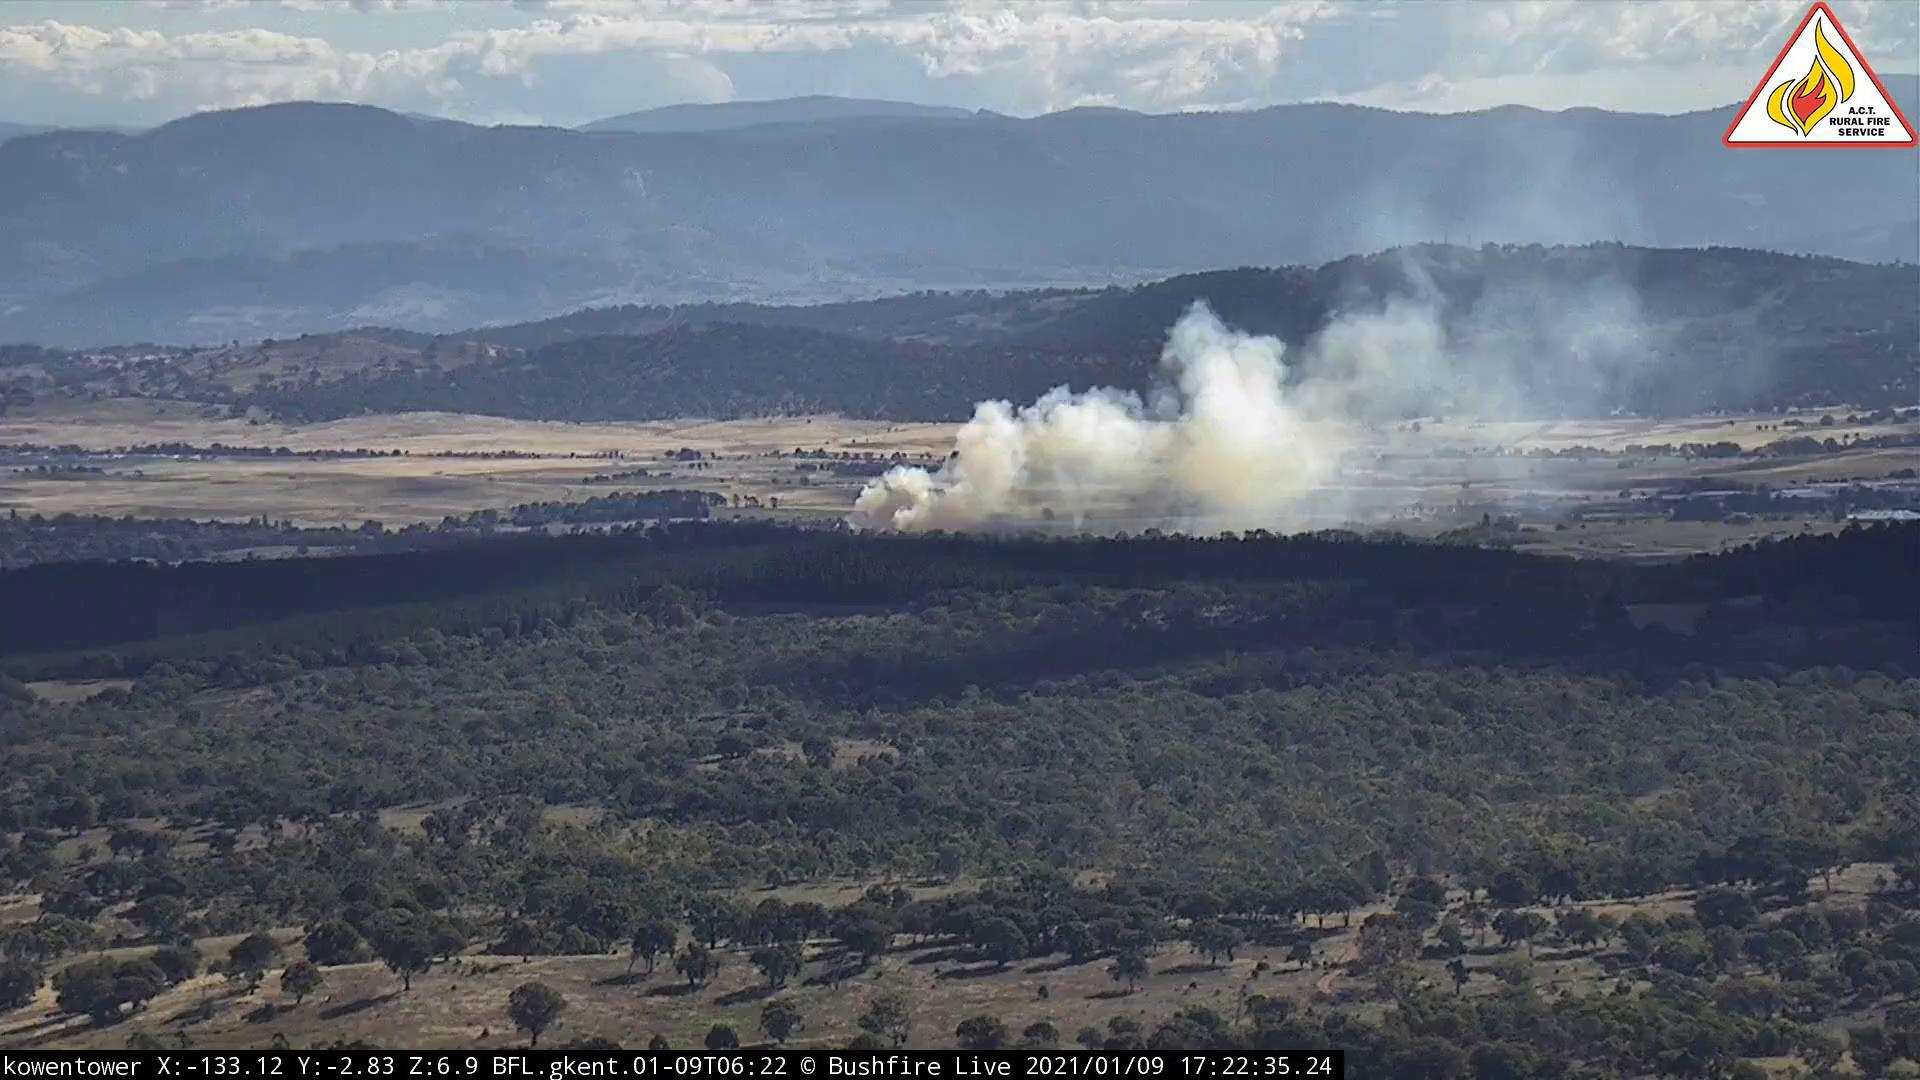Smoke: (827, 160, 1817, 549)
